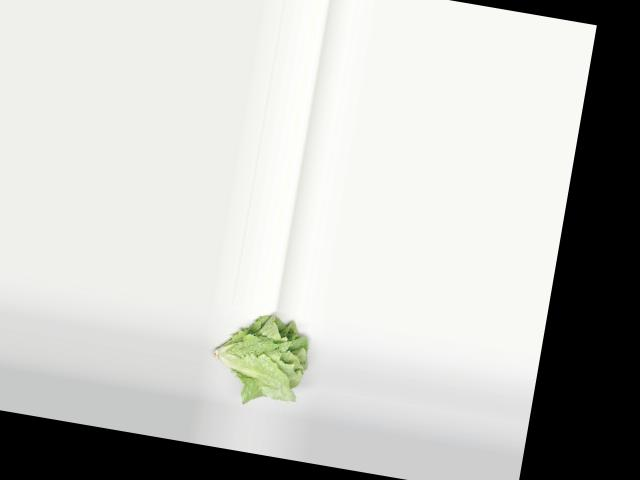lettuce: (198, 299, 320, 412)
